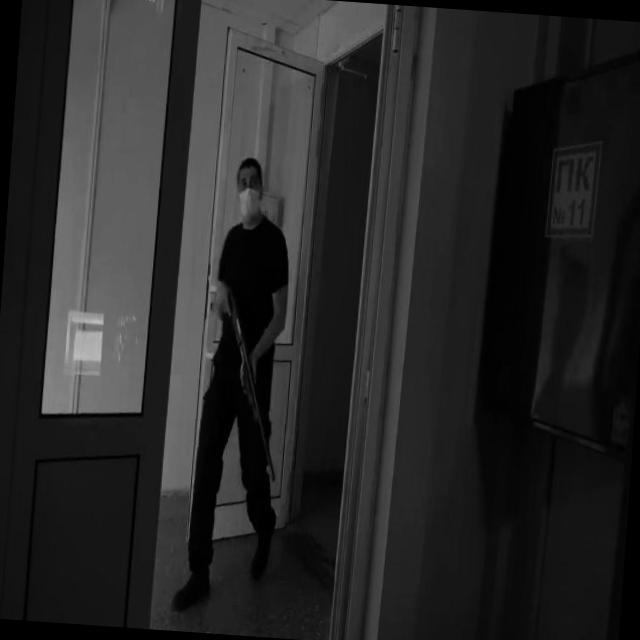gun: (212, 285, 288, 484)
person with a gun: (170, 154, 300, 618)
